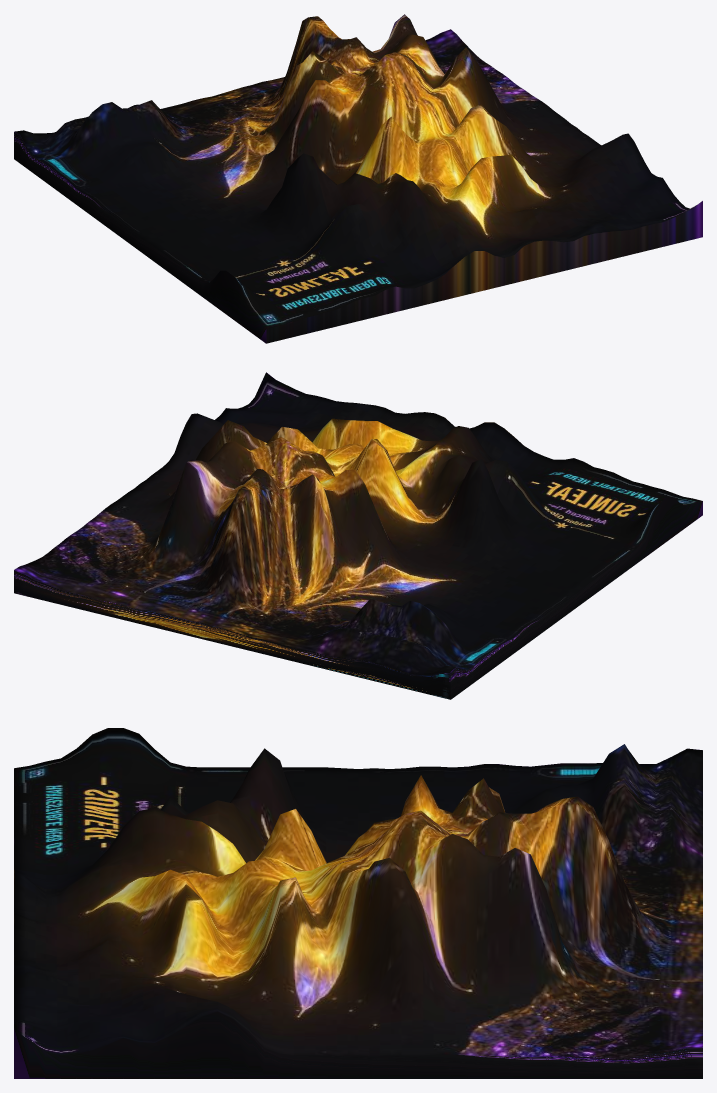
The model's file is HERB_03_Sunleaf.glb.
The picture shows the model from 3 angles, top to bottom: view 1: azimuth 30°, elevation 25°; view 2: azimuth 150°, elevation 25°; view 3: azimuth 270°, elevation 25°; orthographic projection. The views are drawn at different scales.
Parts seen in each view (by area): view 1: HERB_03_Sunleaf; view 2: HERB_03_Sunleaf; view 3: HERB_03_Sunleaf.
Part boxes in pixels (x1,y1,x2,y2): HERB_03_Sunleaf: (14,14,702,343); HERB_03_Sunleaf: (14,372,702,699); HERB_03_Sunleaf: (14,728,702,1078).
Size of the model in its own units: 2 by 0.51 by 2.
Materials: 1 (1 with a texture image).
